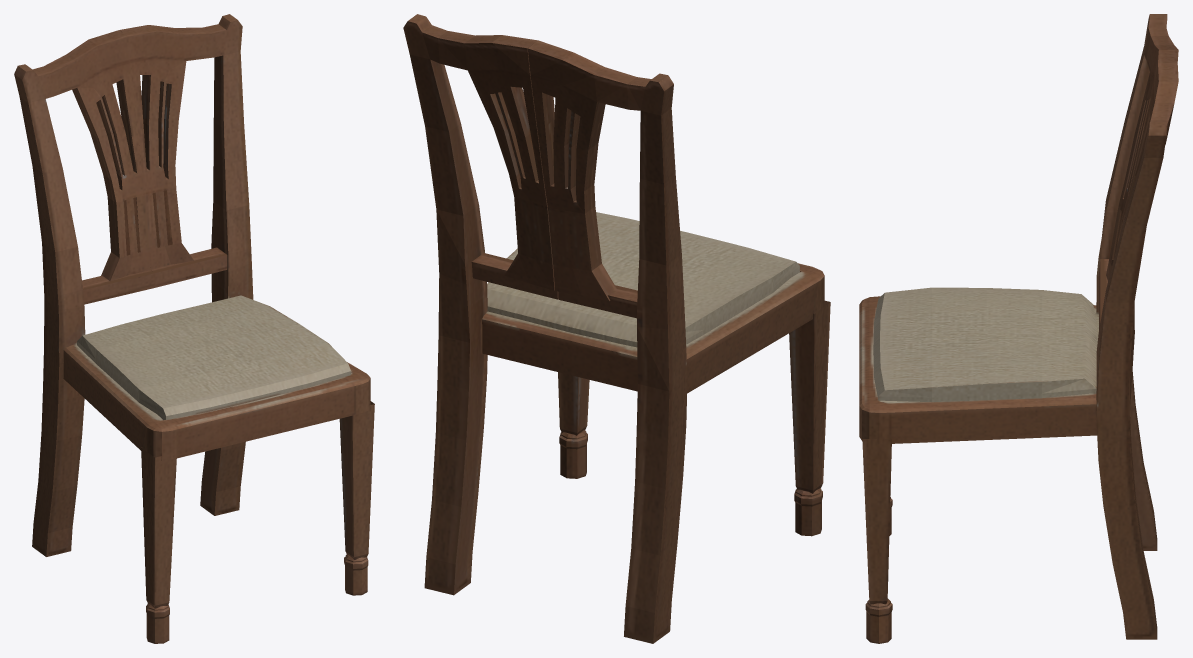
File: SideChair.fbx
3 renders of one model, left to right at view 1: azimuth 30°, elevation 25°; view 2: azimuth 150°, elevation 25°; view 3: azimuth 270°, elevation 25°, orthographic. The views are drawn at different scales.
Visible parts, largest first — view 1: SideChair_Low; view 2: SideChair_Low; view 3: SideChair_Low.
Part boxes in pixels (left/top/right/bottom): SideChair_Low: left=14, top=14, right=374, bottom=643; SideChair_Low: left=403, top=14, right=830, bottom=643; SideChair_Low: left=859, top=14, right=1178, bottom=643.
Size of the model in its own units: 0.4764 by 1 by 0.5527.
